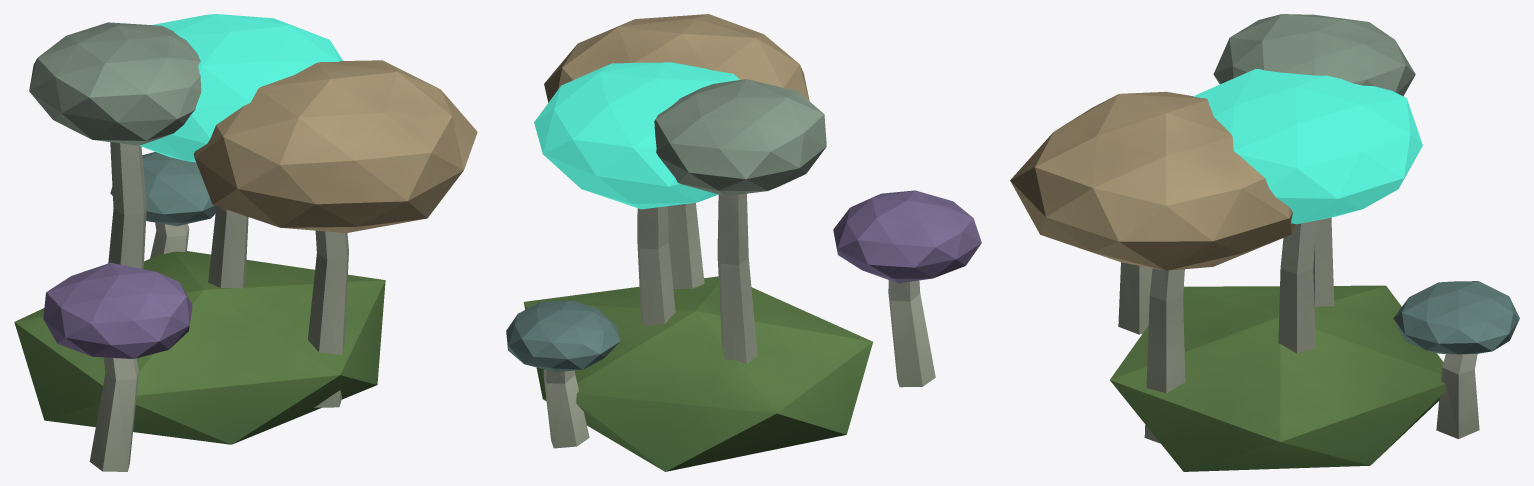
The model's file is fungi_cluster_b.glb.
The picture shows the model from 3 angles, left to right: view 1: azimuth 30°, elevation 25°; view 2: azimuth 150°, elevation 25°; view 3: azimuth 270°, elevation 25°; orthographic projection. The views are drawn at different scales.
Visible parts, largest first — view 1: fungi_cluster_b; view 2: fungi_cluster_b; view 3: fungi_cluster_b.
Part boxes in pixels (<box>): fungi_cluster_b: <box>14,14,477,471</box>; fungi_cluster_b: <box>506,14,981,471</box>; fungi_cluster_b: <box>1010,14,1519,471</box>.
Bounding box in the file's own units: 1.09 × 0.9469 × 1.14.
Materials: 2 (2 with a texture image).
